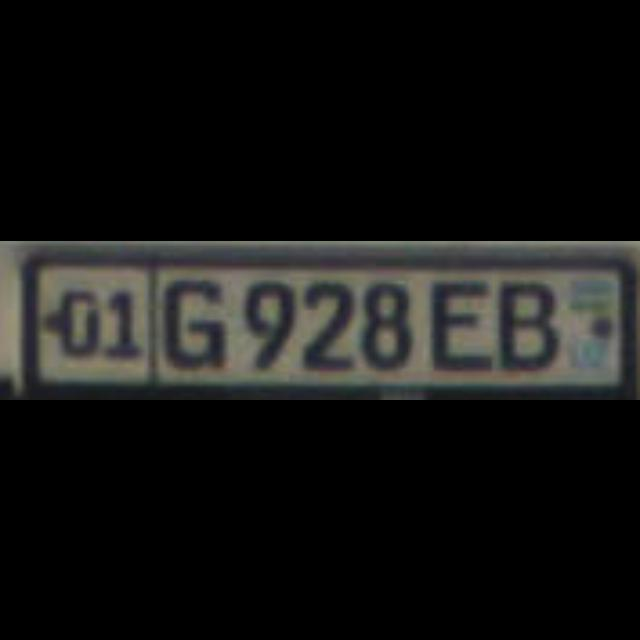0: (54, 284, 94, 352)
1: (101, 284, 137, 356)
2: (297, 276, 351, 364)
8: (362, 276, 404, 364)
9: (242, 276, 286, 364)
B: (495, 276, 553, 364)
E: (427, 276, 488, 366)
G: (160, 273, 220, 363)
